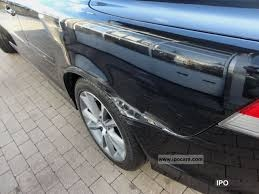Scratch: (105, 90, 184, 143)
